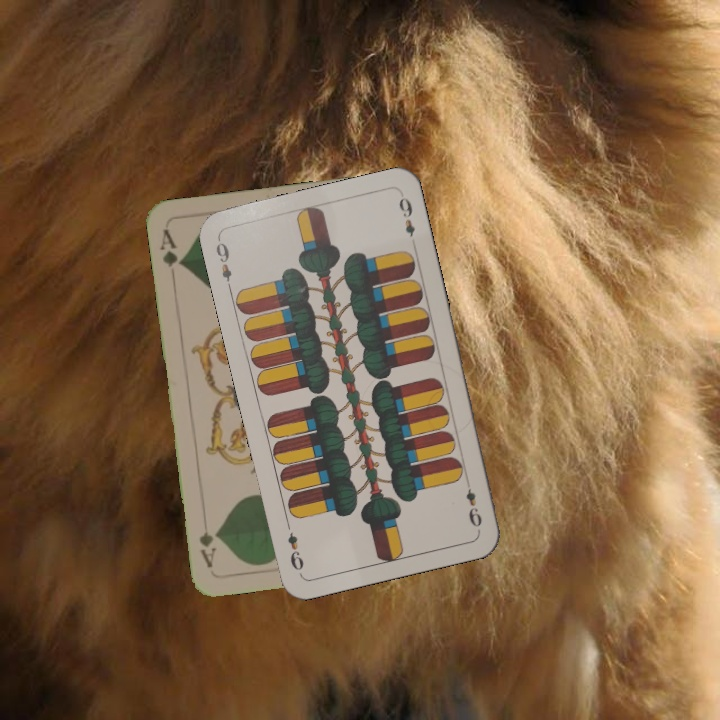E9: (212, 235, 235, 293), (461, 485, 485, 530)
GA: (156, 225, 185, 270)
